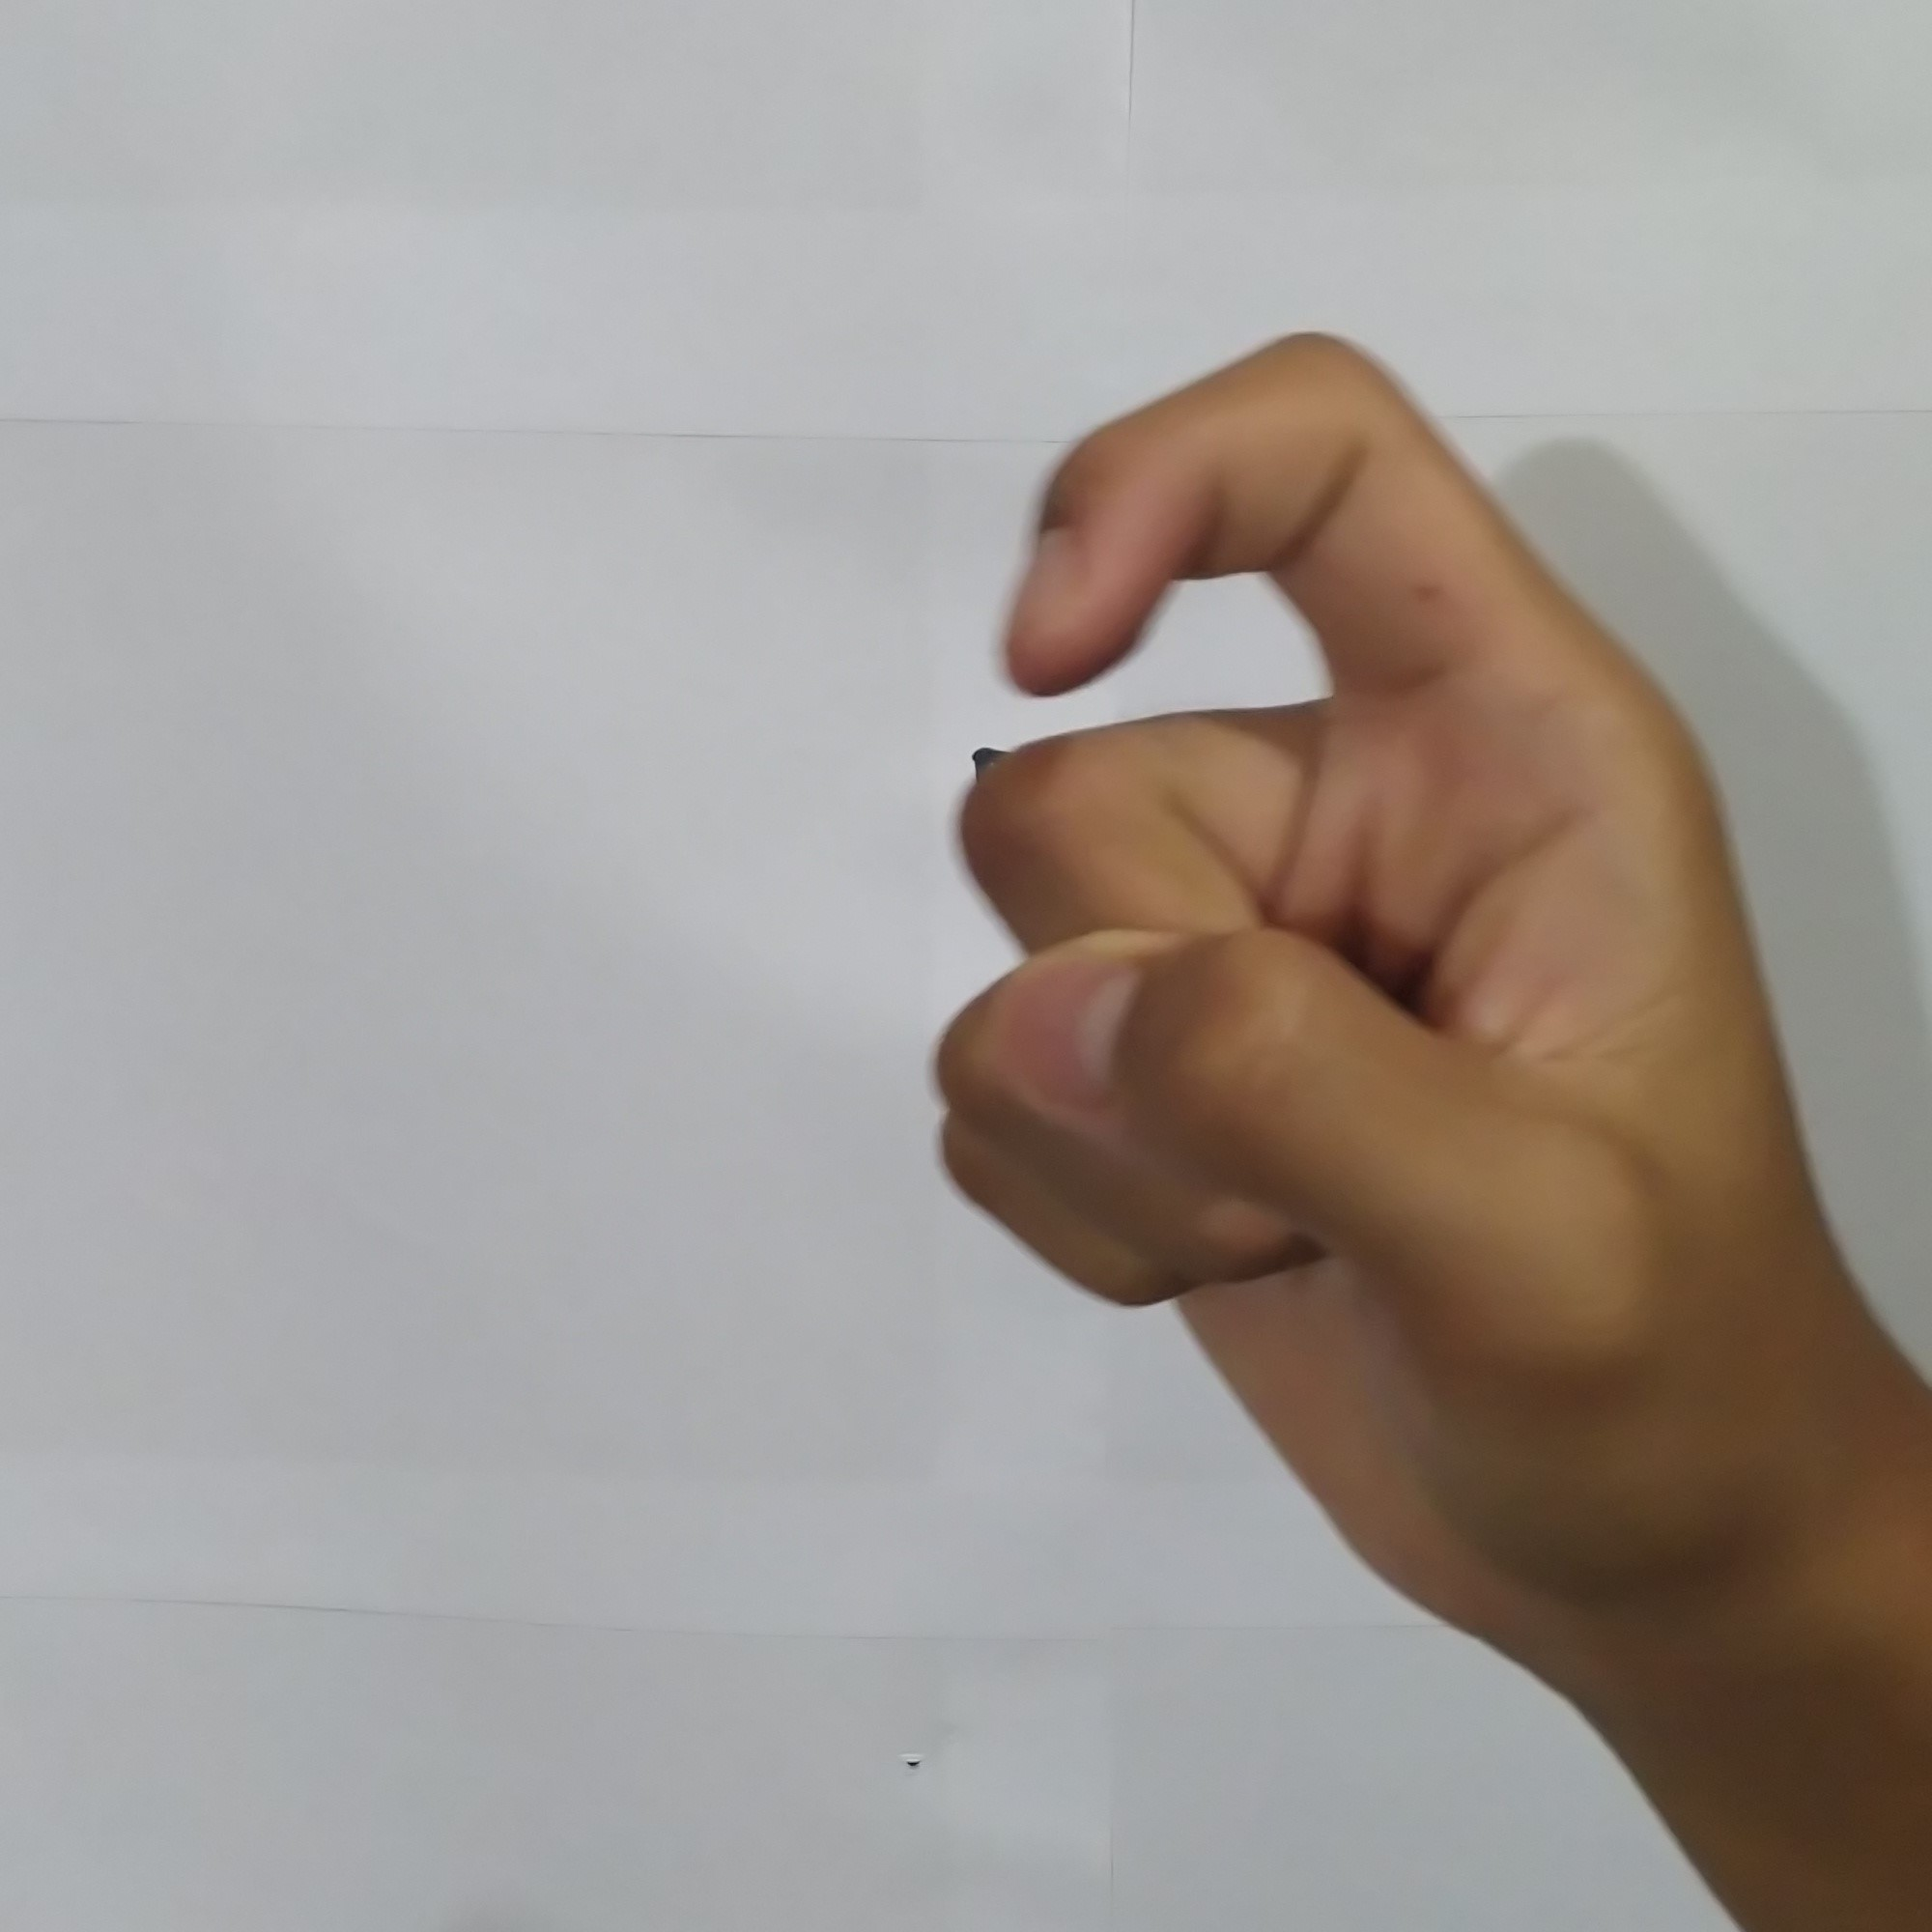X: (904, 297, 1854, 1631)
